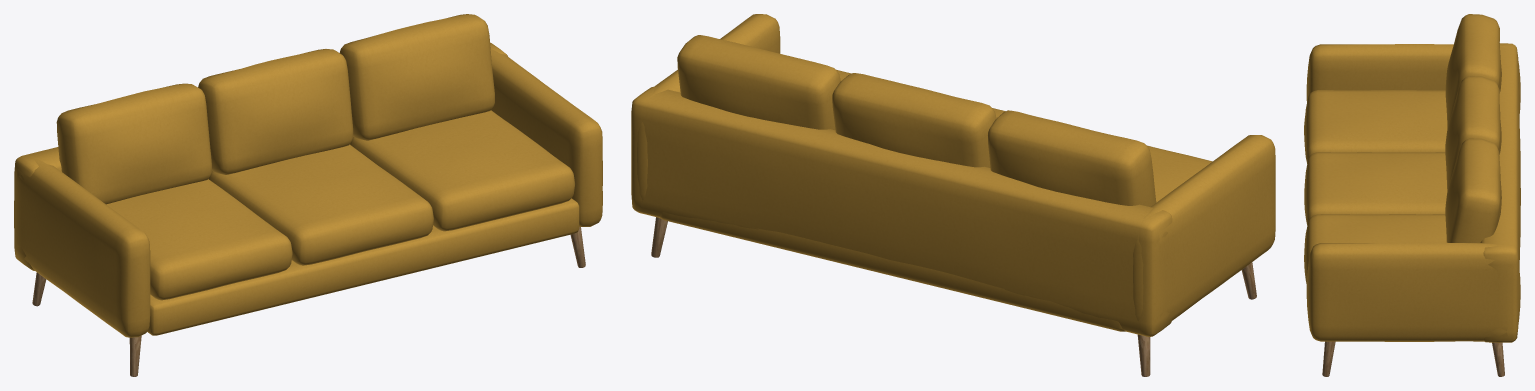
The model's file is sofa_nordico_3p_mostaza.glb.
3 renders of one model, left to right at view 1: azimuth 30°, elevation 25°; view 2: azimuth 150°, elevation 25°; view 3: azimuth 270°, elevation 25°, orthographic. The views are drawn at different scales.
Visible parts, largest first — view 1: sofa_nordico_3p_mostaza; view 2: sofa_nordico_3p_mostaza; view 3: sofa_nordico_3p_mostaza.
Boxes of the visible parts, x1,y1,x2,y2 form: sofa_nordico_3p_mostaza: [14, 14, 602, 376]; sofa_nordico_3p_mostaza: [631, 14, 1275, 376]; sofa_nordico_3p_mostaza: [1304, 14, 1520, 376].
Size of the model in its own units: 2.06 by 0.806 by 0.8909.
2 materials, 2 textured.
